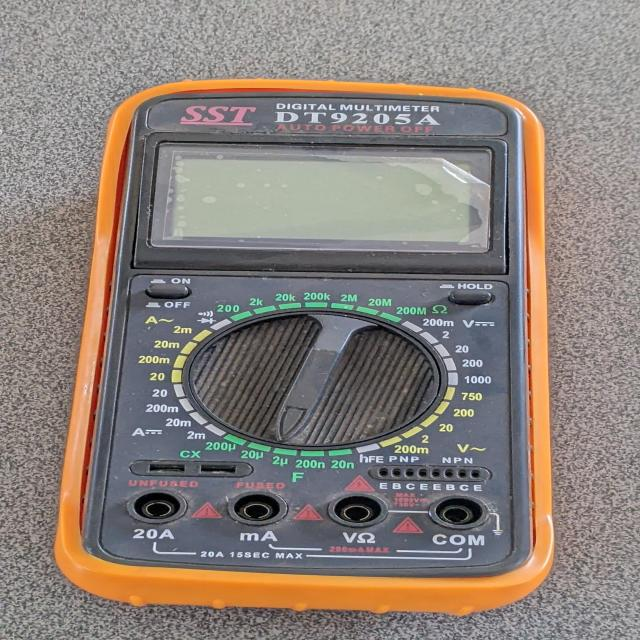Digital Multimeter: (42, 81, 568, 625)
